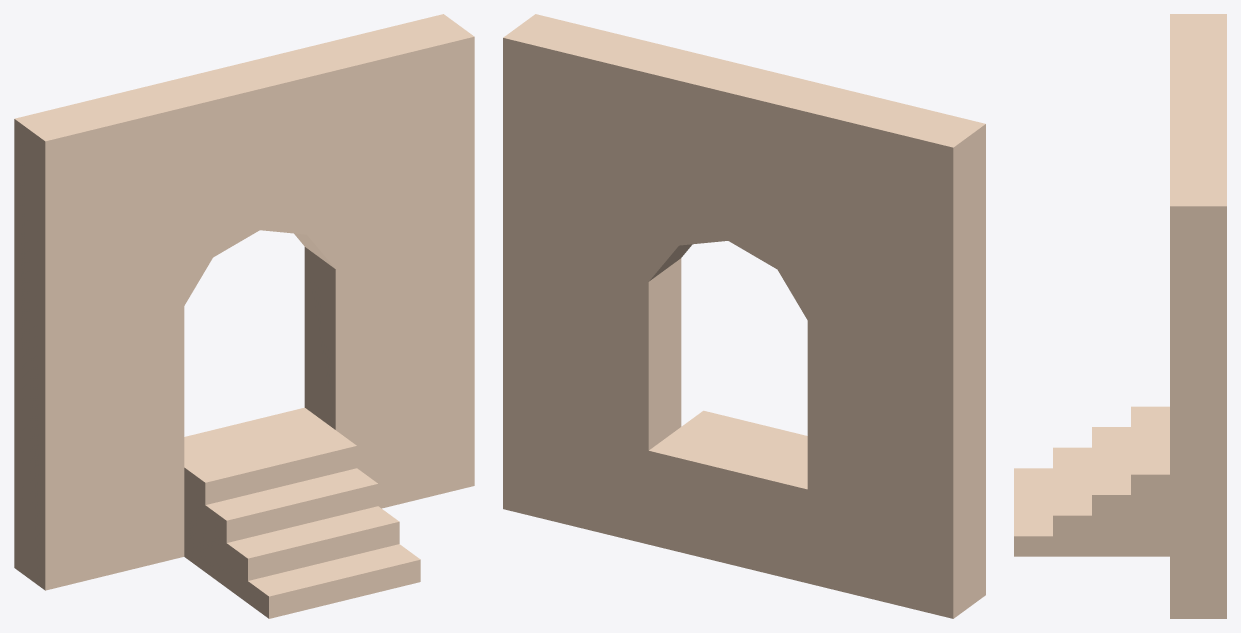
Rendered from Abstract_Castle_Block_1_Unit_Beige_Wall_Door_01.fbx.
3 views of the same model, side by side, from view 1: azimuth 30°, elevation 25°; view 2: azimuth 150°, elevation 25°; view 3: azimuth 270°, elevation 25° (orthographic). The views are drawn at different scales.
Parts seen in each view (by area): view 1: Model; view 2: Model; view 3: Model.
Boxes of the visible parts, <box> form: Model: <box>14,14,474,618</box>; Model: <box>503,14,985,618</box>; Model: <box>1014,14,1226,618</box>.
Bounding box in the file's own units: 1000 × 1000 × 468.
